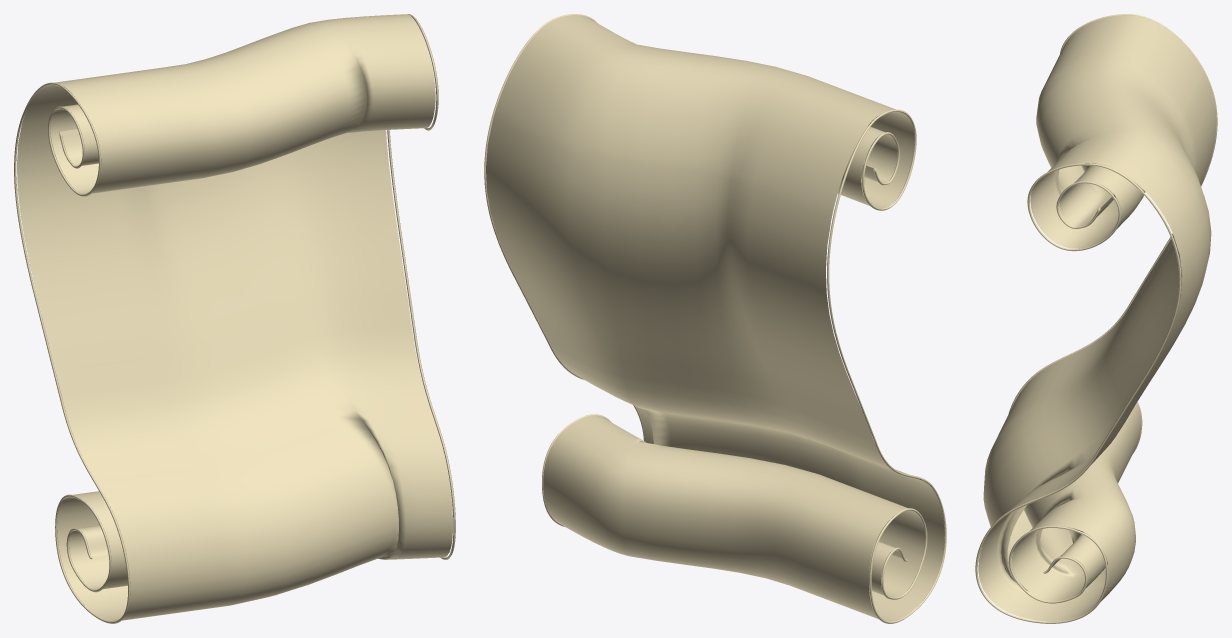
File: scroll.fbx
3 views of the same model, side by side, from view 1: azimuth 30°, elevation 25°; view 2: azimuth 150°, elevation 25°; view 3: azimuth 270°, elevation 25° (orthographic). The views are drawn at different scales.
Visible parts, largest first — view 1: scroll; view 2: scroll; view 3: scroll.
Boxes of the visible parts, x1=… form: scroll: x1=14, y1=14, x2=455, y2=623; scroll: x1=484, y1=14, x2=946, y2=623; scroll: x1=975, y1=14, x2=1217, y2=623.
Size of the model in its own units: 75.62 by 103 by 48.78.
